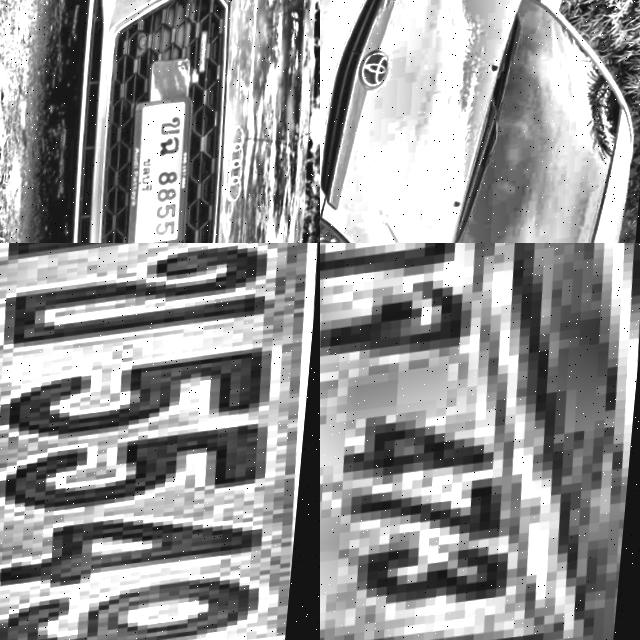license-plate: (0, 243, 320, 640), (320, 243, 628, 640), (129, 99, 203, 243)
